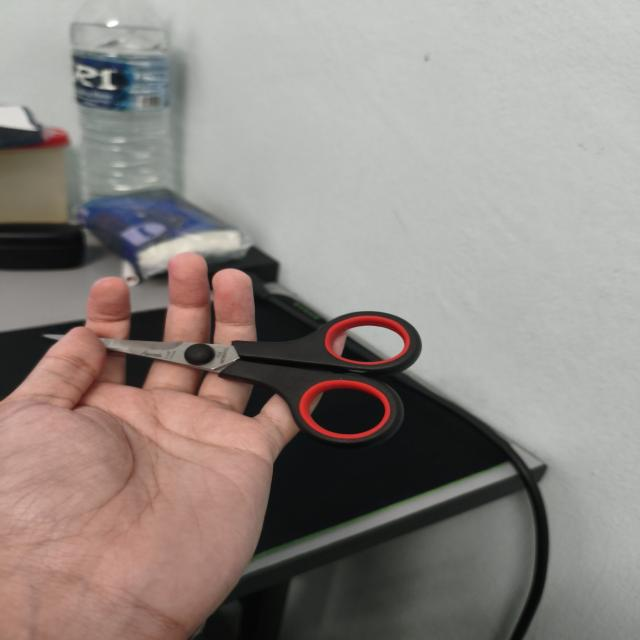scissor: (101, 312, 421, 446)
